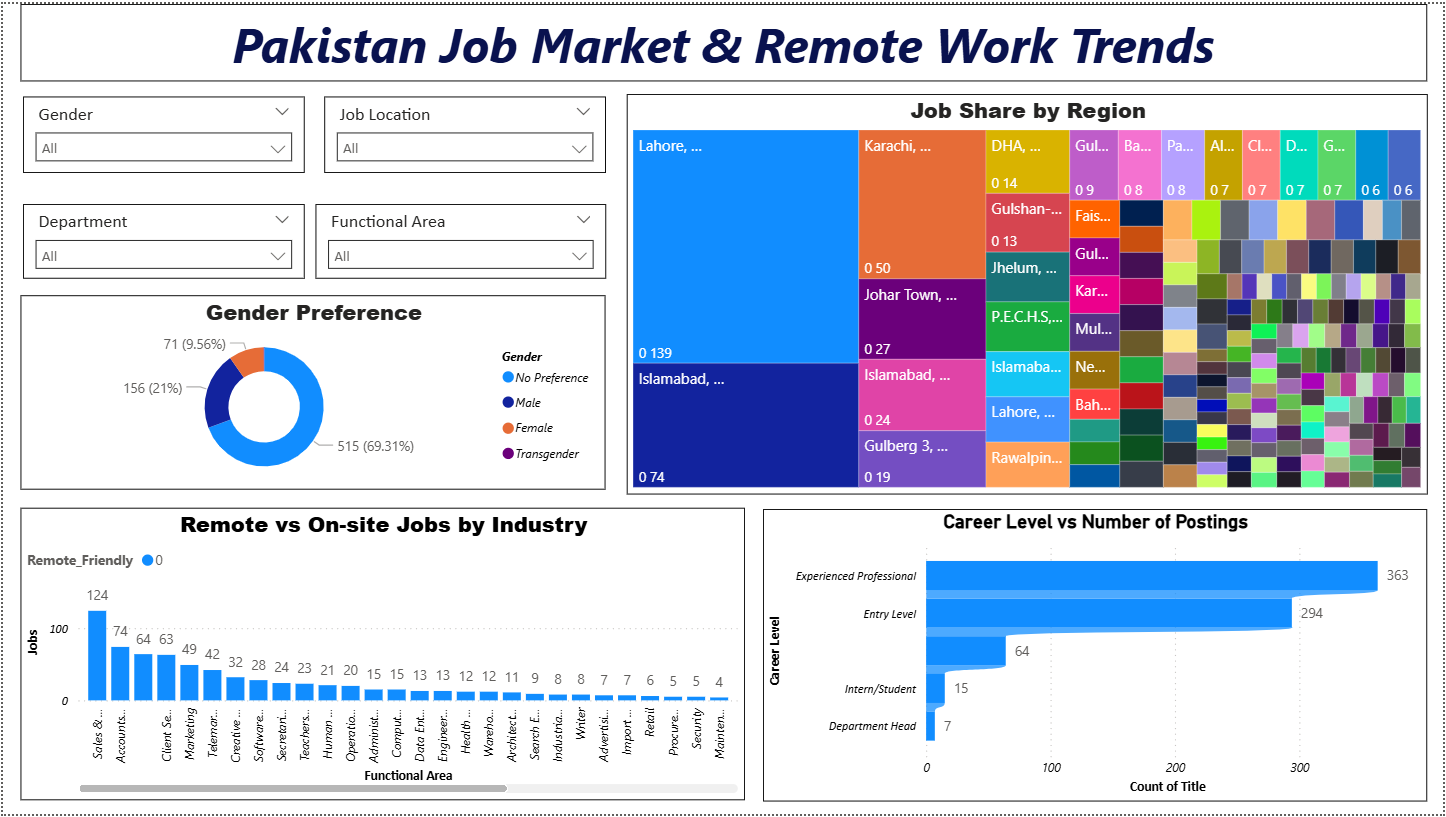

The page's visual inventory and layout, read from the dashboard file:
{"tool":"powerbi","page":{"name":"Pakistan Job Market Analysis","canvas":[1280,720],"ordinal":2},"visuals":[{"type":"textbox","box":[15.7,0,1250,68.6],"z":0},{"type":"clusteredColumnChart","title":"Remote vs On-site Jobs by Industry","fields":{"Category":["Rozee_Market.Functional Area"],"Y":["CountNonNull(Rozee_Market.Title)"],"Series":["Rozee_Market.Remote_Friendly"]},"box":[16,448,644,260],"z":1000},{"type":"barChart","title":"Career Level vs Number of Postings","fields":{"Category":["Rozee_Market.Career Level"],"Y":["CountNonNull(Rozee_Market.Title)"]},"box":[675.7,448.6,590,260],"z":2000},{"type":"treemap","title":"Job Share by Region","fields":{"Group":["Rozee_Market.Job Location"],"Details":["Rozee_Market.Remote_Friendly"],"Values":["CountNonNull(Rozee_Market.Title)"]},"box":[554,80,712,356],"z":3000},{"type":"donutChart","title":"Gender Preference","fields":{"Y":["CountNonNull(Rozee_Market.Title)"],"Category":["Rozee_Market.Gender"]},"box":[15.7,258.6,520,172.9],"z":4000},{"type":"slicer","fields":{"Values":["IBM_HR.Department"]},"box":[18,178,250,66],"z":5000},{"type":"slicer","fields":{"Values":["IBM_HR.Gender"]},"box":[18,82,250,68],"z":6000},{"type":"slicer","fields":{"Values":["Rozee_Market.Job Location"]},"box":[286,82,250,68],"z":7000},{"type":"slicer","fields":{"Values":["Rozee_Market.Functional Area"]},"box":[278,178,258,66],"z":8000}]}

Visuals, with their boxes in screenshot pixels (x1, y1, x2, y2), scaled from the page's 1280x720 canvas onto the 1446x817 screenshot:
textbox: l=18, t=0, r=1430, b=78
"Remote vs On-site Jobs by Industry" clusteredColumnChart: l=18, t=508, r=746, b=803
"Career Level vs Number of Postings" barChart: l=763, t=509, r=1430, b=804
"Job Share by Region" treemap: l=626, t=91, r=1430, b=495
"Gender Preference" donutChart: l=18, t=293, r=605, b=490
slicer - IBM_HR.Department: l=20, t=202, r=303, b=277
slicer - IBM_HR.Gender: l=20, t=93, r=303, b=170
slicer - Rozee_Market.Job Location: l=323, t=93, r=606, b=170
slicer - Rozee_Market.Functional Area: l=314, t=202, r=606, b=277
